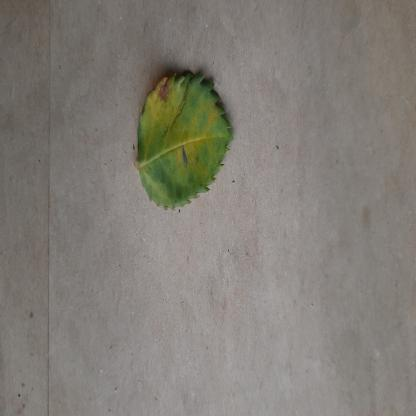black-spot: (134, 58, 233, 220)
